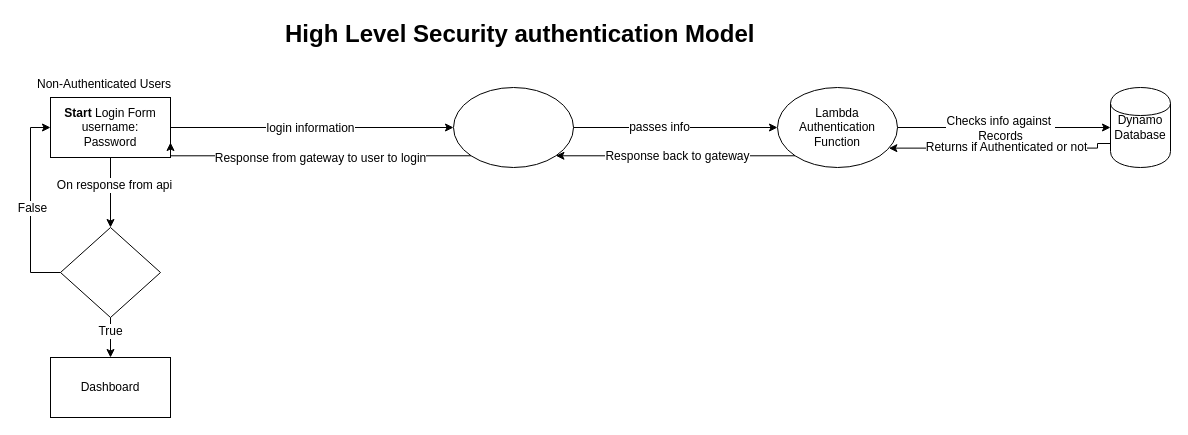
Some shapes in this 1188 by 435 pixel diagram are drawn without their labels. Each missing label, with the box of its shape:
is Authenticated: (60, 226, 160, 318)
Login Api gateway: (452, 86, 574, 168)
